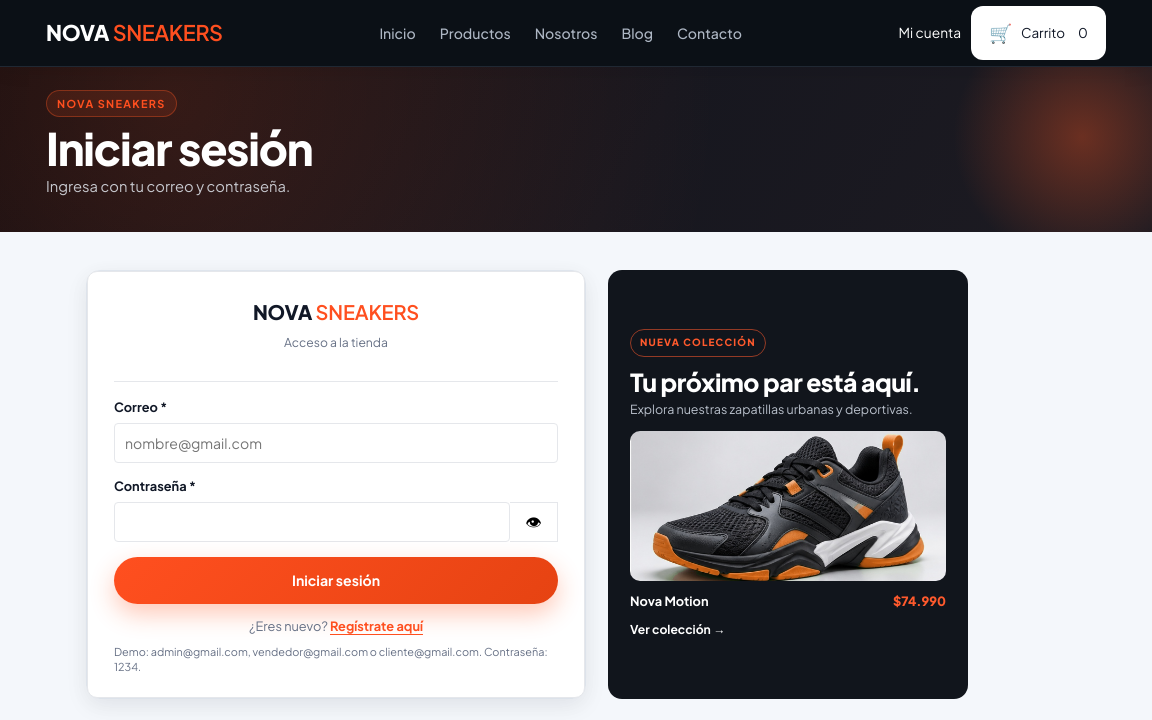
Scenario: Flujos principales de Nova Sneakers › permite que el usuario administrador abra el panel administrativo
Step 1. Type "admin@gmail.com" into the field labelled "Correo *" → (336, 443), box 114,423 -> 558,463
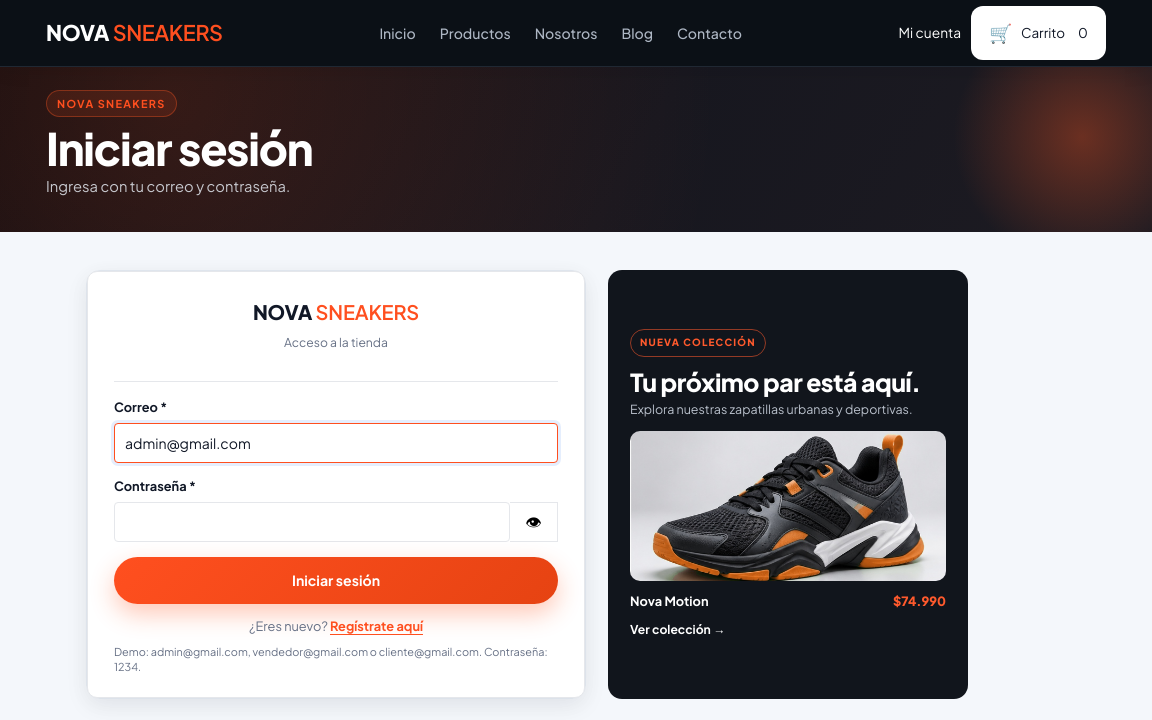
Step 2. Type "1234" into the password field labelled "Contraseña *" → (312, 522), box 114,502 -> 510,542
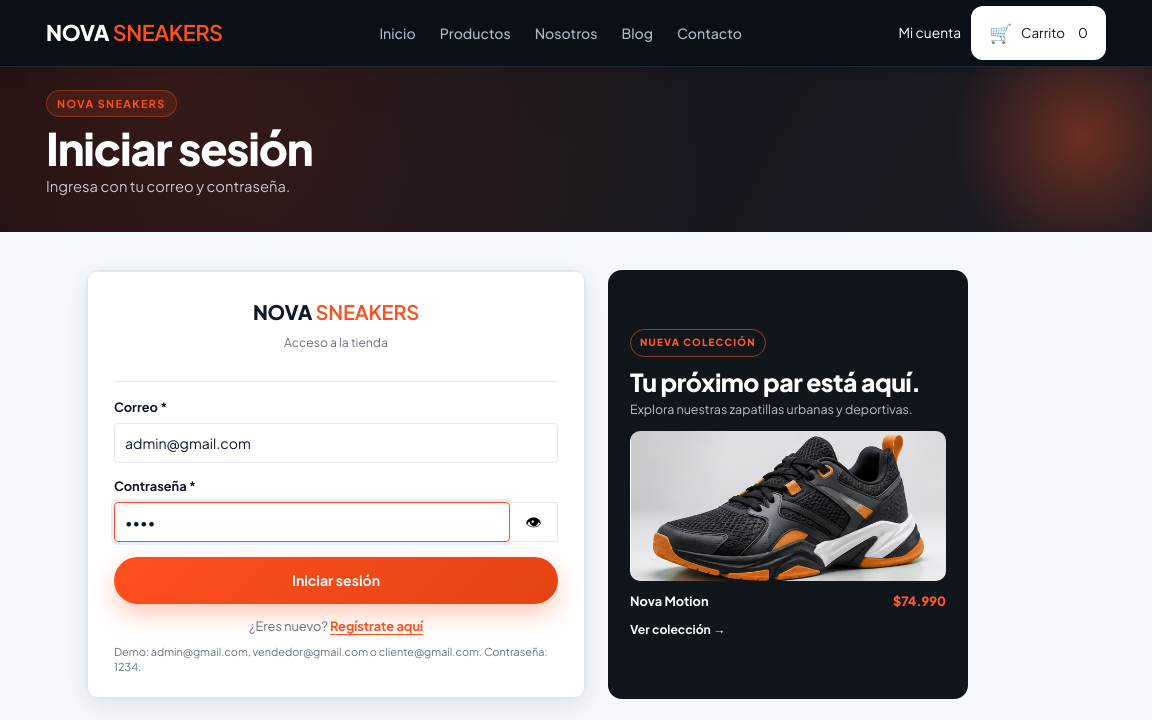
Step 3. Click the button "Iniciar sesión" → (336, 580), box 114,557 -> 558,604
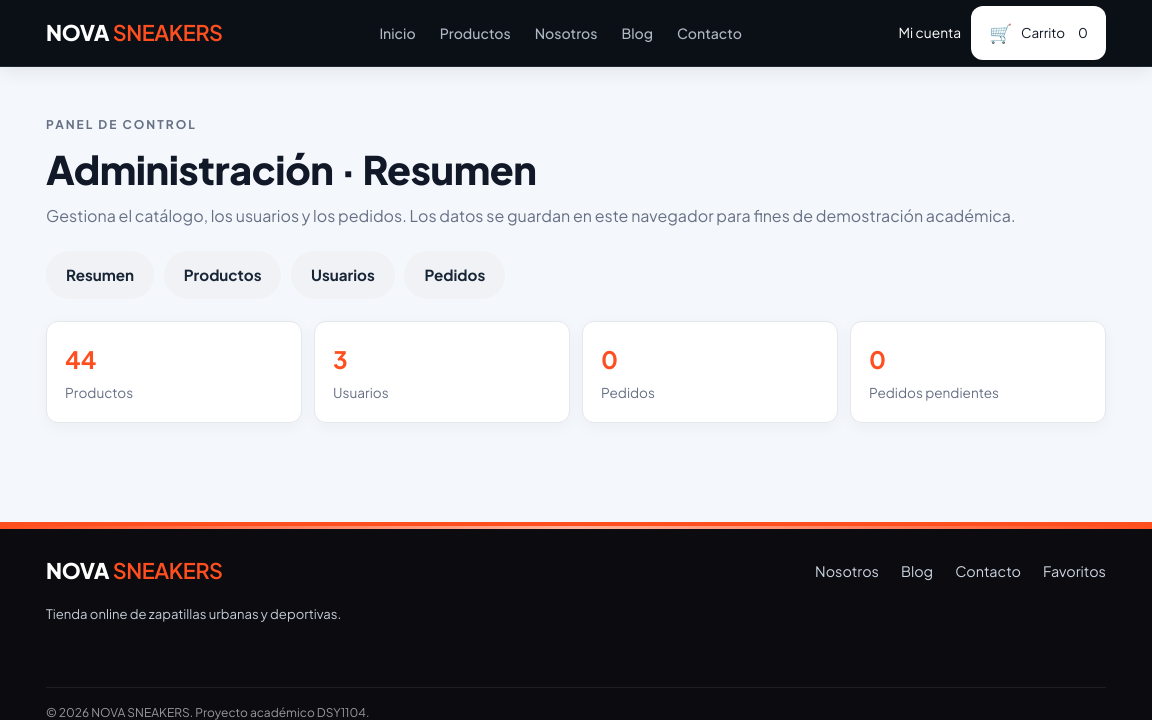
Now the heading "Administración · Resumen" is shown, box 46,144 -> 536,194
